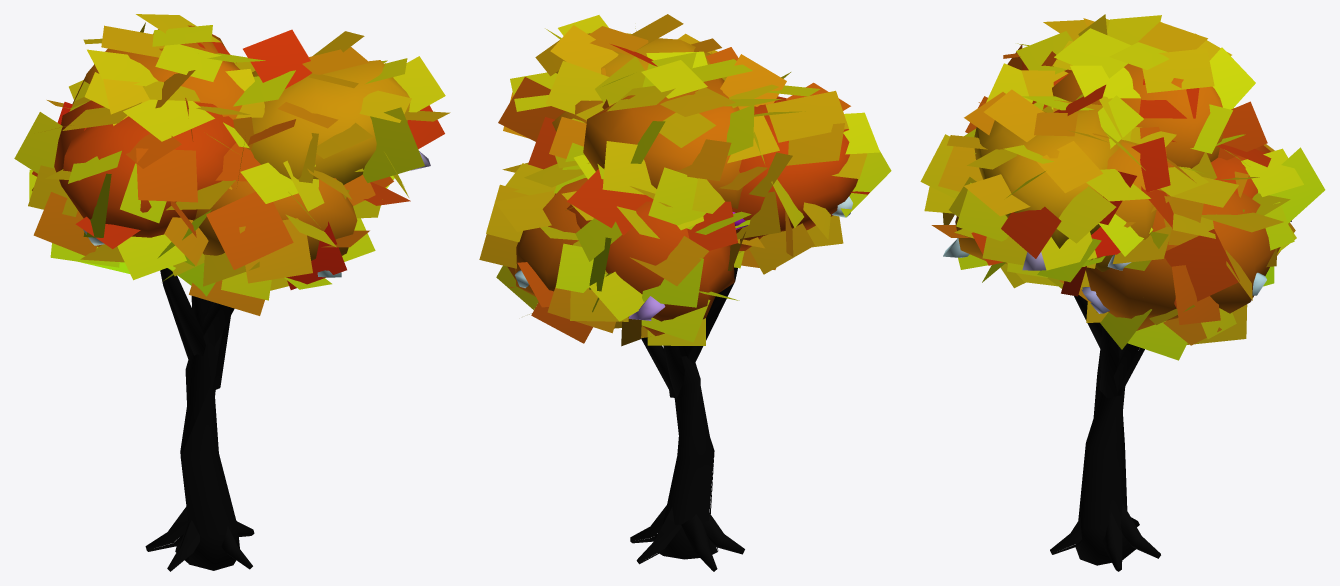
Rendered from tree_fruit.glb.
3 views of the same model, side by side, from view 1: azimuth 30°, elevation 25°; view 2: azimuth 150°, elevation 25°; view 3: azimuth 270°, elevation 25° (orthographic). The views are drawn at different scales.
Parts seen in each view (by area): view 1: foliage_leaf_sprays, foliage_painted_crown, bark_branching_trunk; view 2: foliage_leaf_sprays, foliage_painted_crown, bark_branching_trunk, fruit_warm_accents; view 3: foliage_leaf_sprays, foliage_painted_crown, bark_branching_trunk, fruit_warm_accents.
Part boxes in pixels (box(x1,y1,x2,y2)): foliage_leaf_sprays: box(14, 14, 450, 315); foliage_painted_crown: box(54, 25, 410, 260); bark_branching_trunk: box(145, 268, 254, 571); foliage_leaf_sprays: box(479, 14, 891, 346); foliage_painted_crown: box(515, 33, 858, 335); bark_branching_trunk: box(630, 267, 744, 571); fruit_warm_accents: box(515, 196, 852, 320); foliage_leaf_sprays: box(920, 14, 1325, 360); foliage_painted_crown: box(955, 60, 1280, 330); bark_branching_trunk: box(1050, 295, 1160, 571); fruit_warm_accents: box(943, 220, 1291, 313).
Size of the model in its own units: 3.26 by 4.24 by 3.12.
